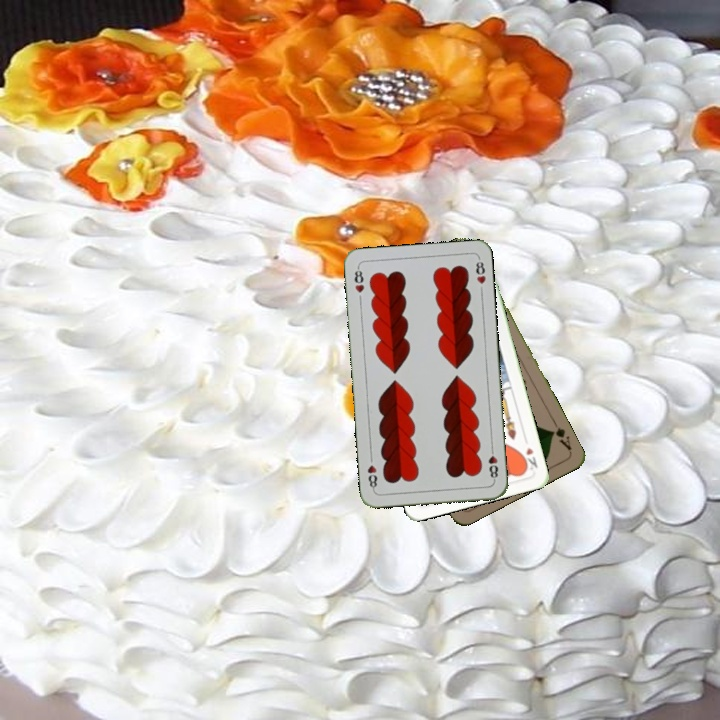GA: (546, 416, 574, 453)
H8: (484, 443, 500, 483), (350, 263, 367, 295)
HK: (518, 443, 540, 475)
